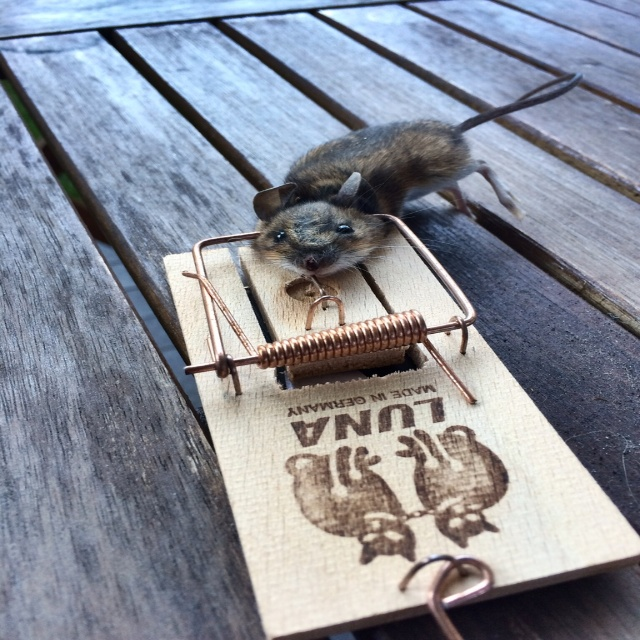Mouse: (242, 79, 574, 275)
